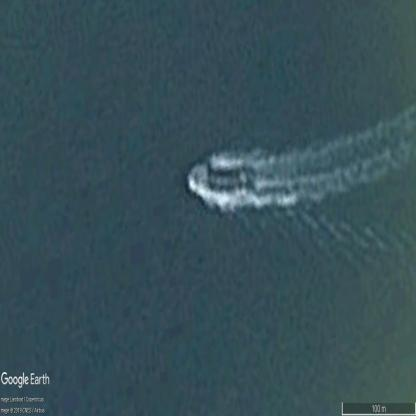ship: (187, 158, 210, 194)
